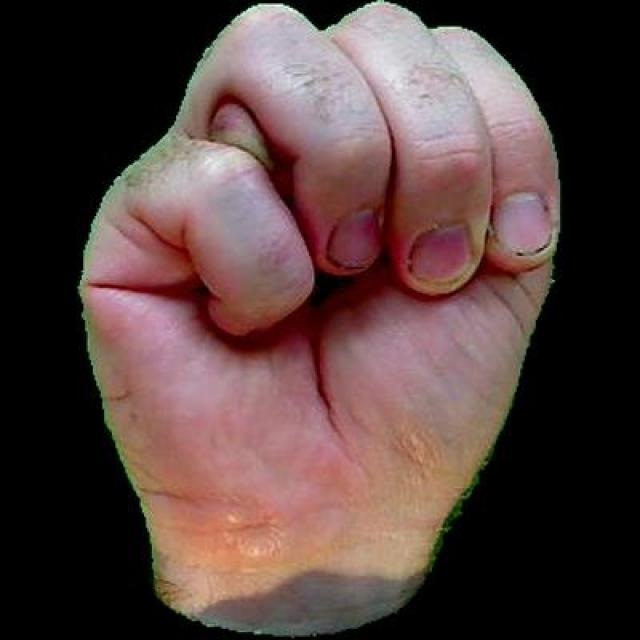m: (72, 0, 563, 637)
